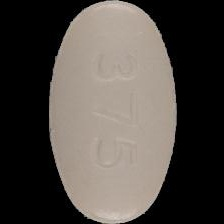10544-277: (0, 0, 224, 224)
